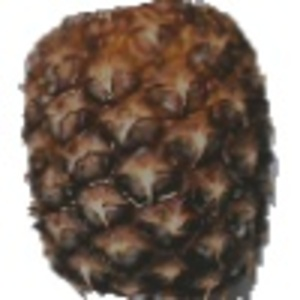abacaxi: (15, 4, 281, 294)
